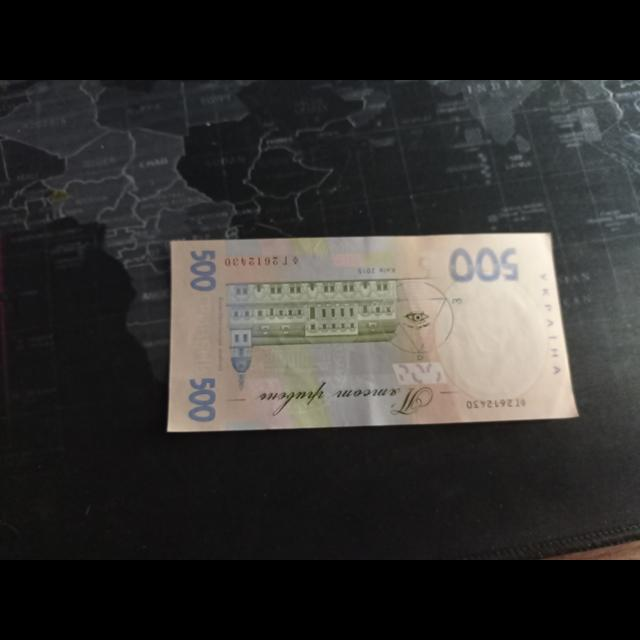500uah: (168, 235, 581, 434)
